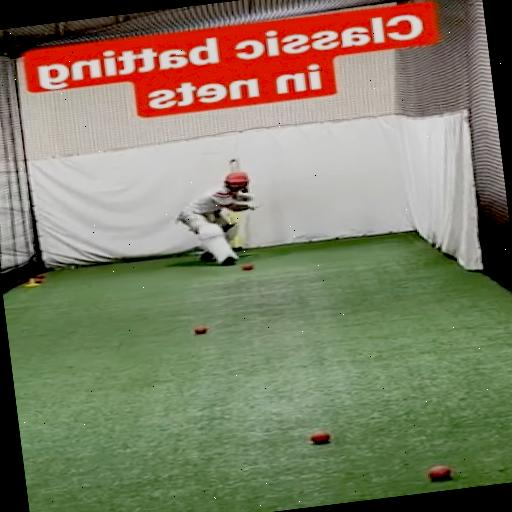Cricket bat: (229, 158, 242, 172)
